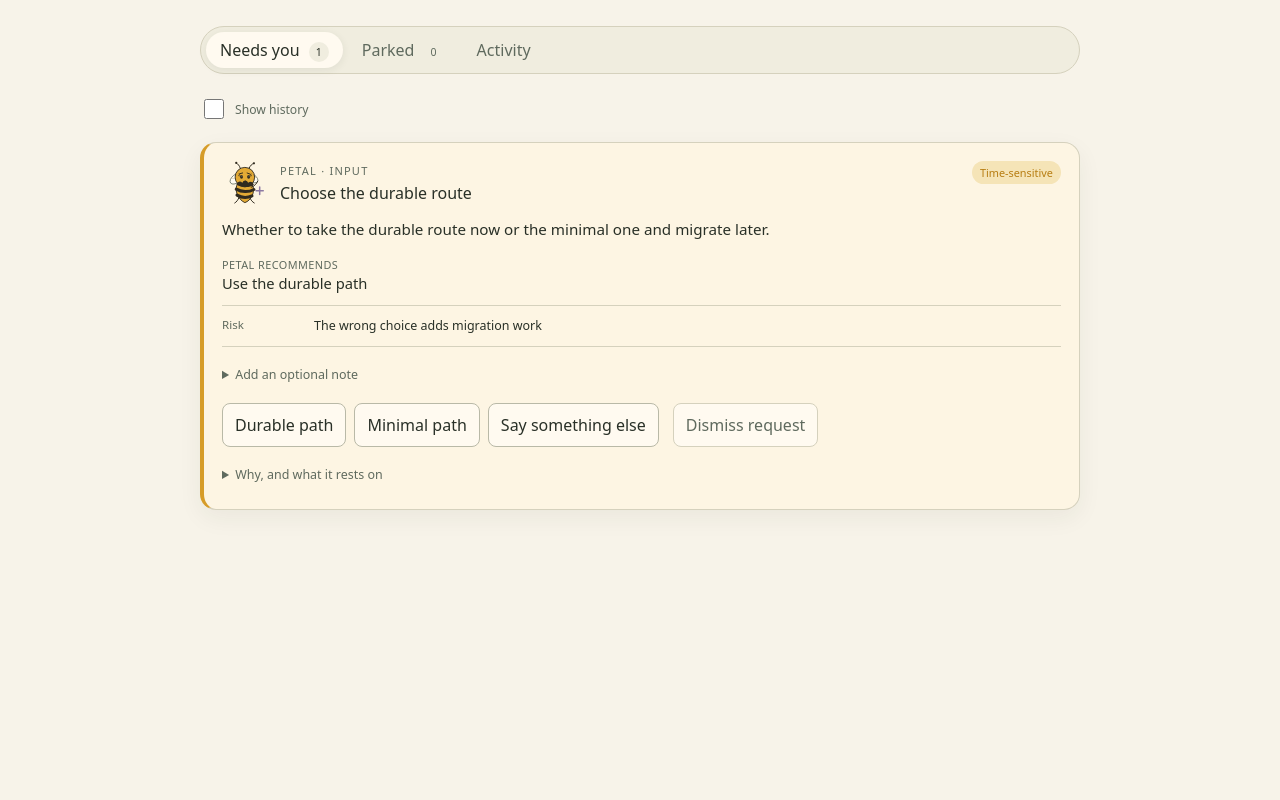
it: keeps resolved history quiet until the operator asks for it
This screenshot has width=1280, height=800.
Check: the heading "Choose the durable route" is shown, box [280,182,472,204]
Check: the text "Petal · Input" is shown, box [280,163,368,178]
Click the checkbox labelled "Show history". click: (214, 109)
box: [204,99,224,119]
(page scrolled)
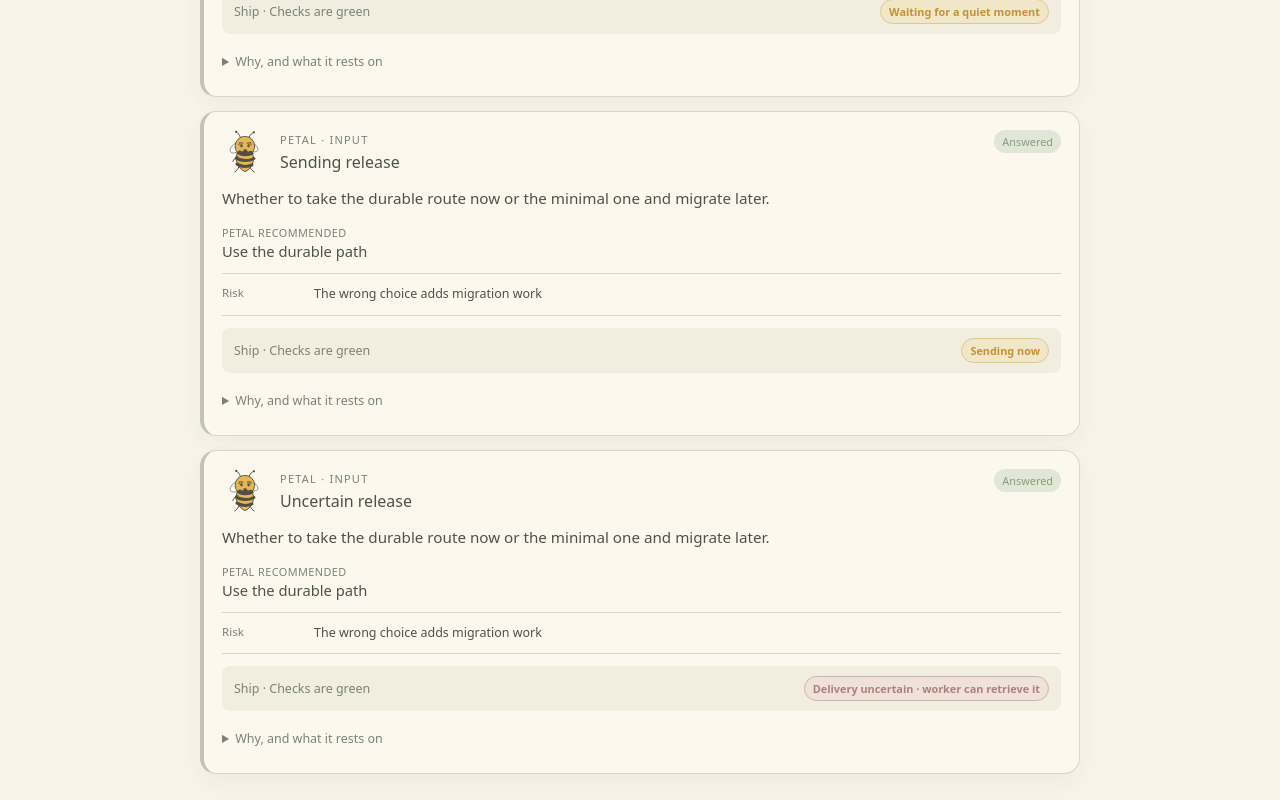
Check: the text "Checks are green" is shown 4 times
Check: the text "Sending now" is shown, box [961,338,1049,363]
Check: the text "Delivery uncertain · worker can retrieve it" is shown, box [804,676,1049,702]
